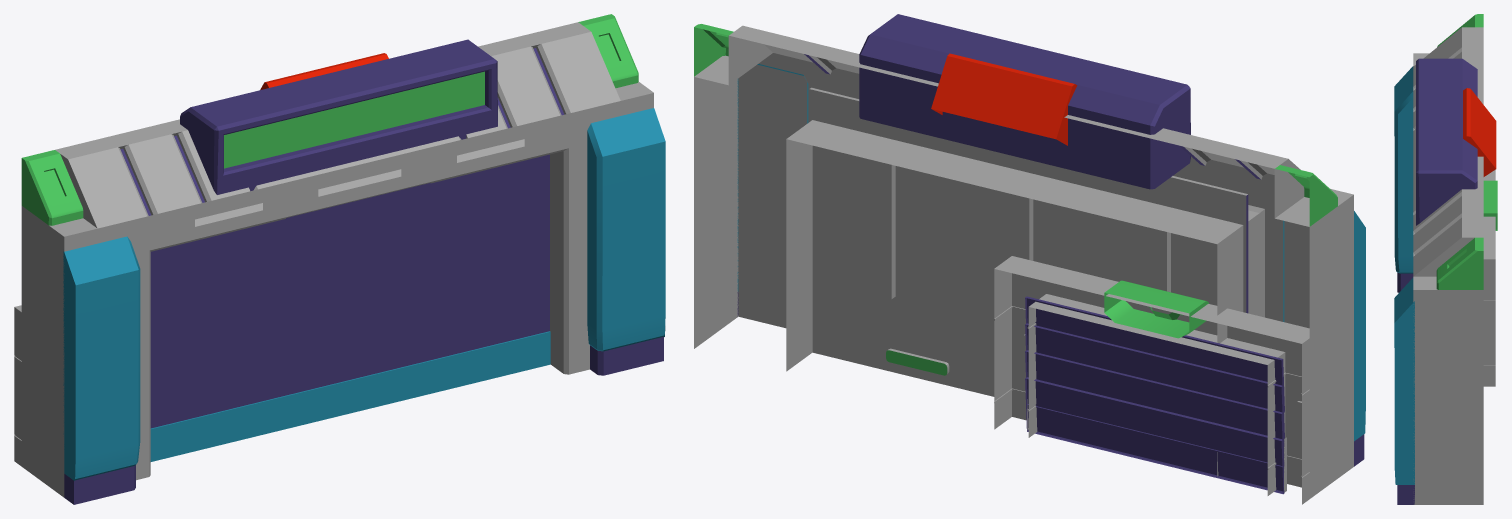
Rendered from Gate.fbx.
The picture shows the model from 3 angles, left to right: view 1: azimuth 30°, elevation 25°; view 2: azimuth 150°, elevation 25°; view 3: azimuth 270°, elevation 25°; orthographic projection. The views are drawn at different scales.
Parts seen in each view (by area): view 1: lod0 (×4), lights; view 2: lod0 (×4); view 3: lod0 (×3).
Boxes of the visible parts, left/top/right/bottom form: lod0 (×4): left=14, top=14, right=665, bottom=504; lights: left=195, top=139, right=524, bottom=226; lod0 (×4): left=694, top=14, right=1365, bottom=504; lod0 (×3): left=1394, top=14, right=1497, bottom=504.
Size of what is drawn, in the model's own units: 12 by 6.5 by 2.21.
